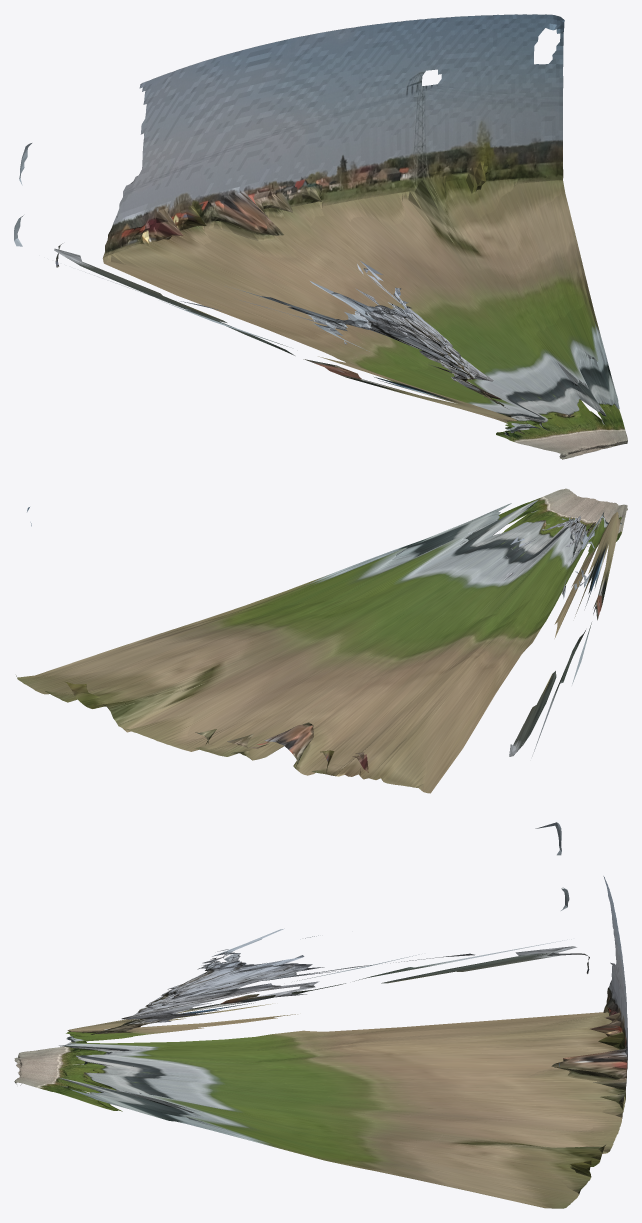
3 views of the same model, one above another, from view 1: azimuth 30°, elevation 25°; view 2: azimuth 150°, elevation 25°; view 3: azimuth 270°, elevation 25° (orthographic). The views are drawn at different scales.
Visible parts, largest first — view 1: defaultobject; view 2: defaultobject; view 3: defaultobject.
Boxes of the visible parts, x1,y1,x2,y2 form: defaultobject: (14,14,627,459); defaultobject: (16,488,627,793); defaultobject: (14,822,627,1208).
Size of the model in its own units: 41.11 by 13.13 by 44.52.
Materials: 1 (1 with a texture image).
